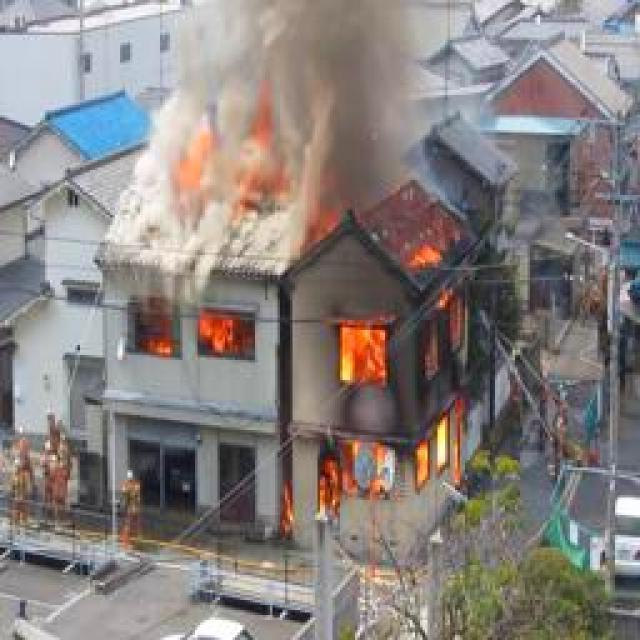Fire: (307, 192, 488, 520), (173, 141, 272, 217), (118, 306, 247, 355)
